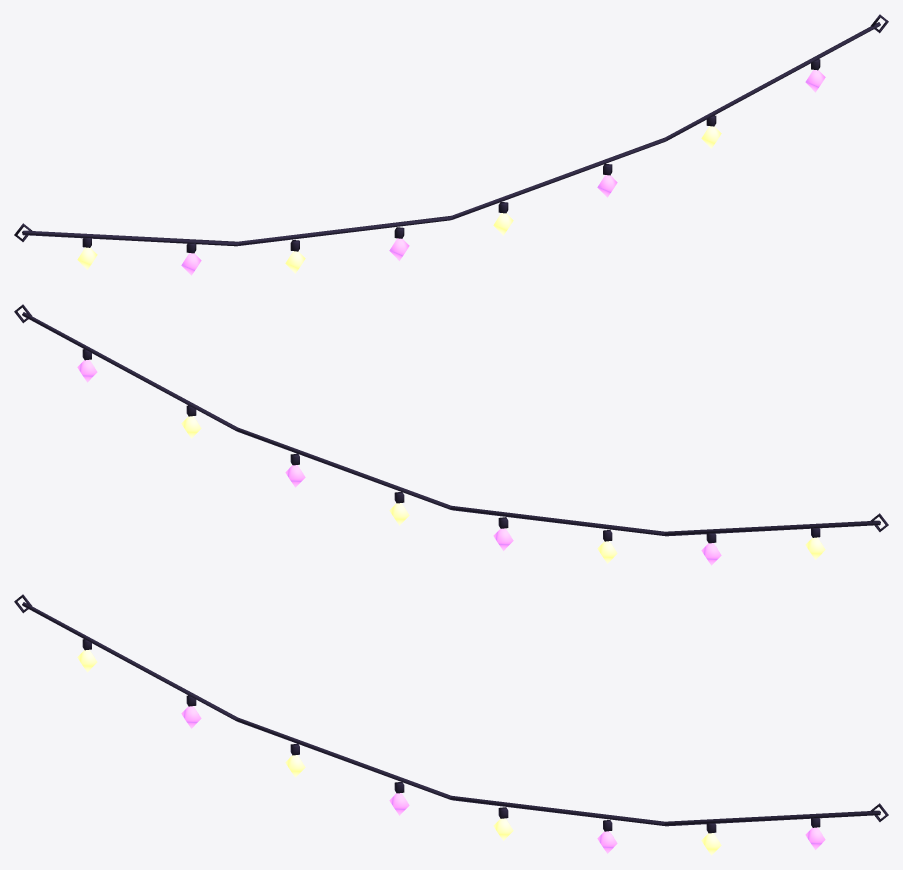
The model's file is string_lights_low.glb.
The picture shows the model from 3 angles, top to bottom: view 1: azimuth 30°, elevation 25°; view 2: azimuth 150°, elevation 25°; view 3: azimuth 330°, elevation 25°; orthographic projection.
Bounding box in the file's own units: 4.09 × 0.5794 × 0.095.
